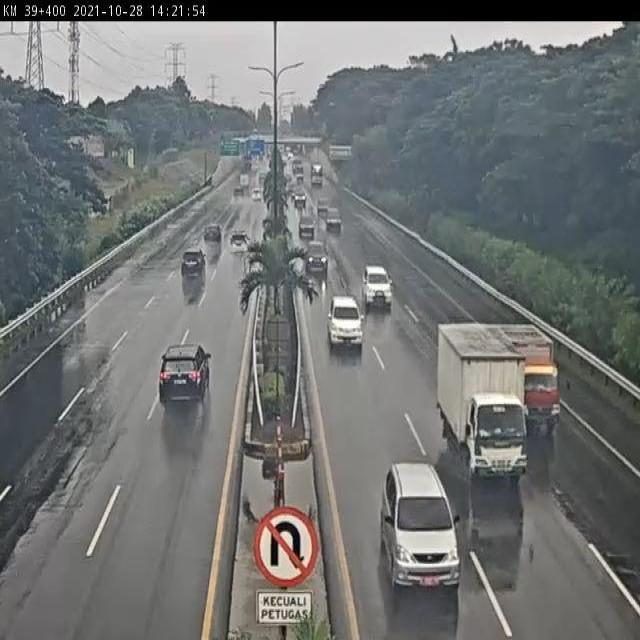car: (380, 461, 462, 587), (159, 343, 212, 401), (326, 296, 363, 345), (361, 265, 393, 308), (179, 248, 205, 281), (304, 240, 327, 269), (228, 229, 251, 256), (202, 223, 222, 248)
truck-m-: (434, 324, 520, 473)
truck-s-: (499, 325, 563, 435)
